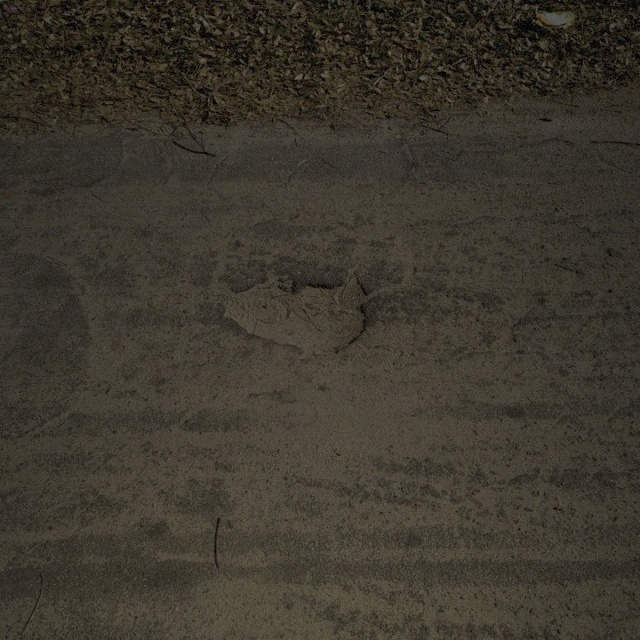pothole: (217, 265, 374, 352)
